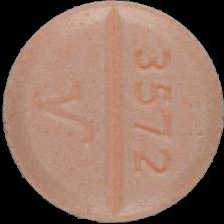68788-9919: (0, 0, 224, 224)
